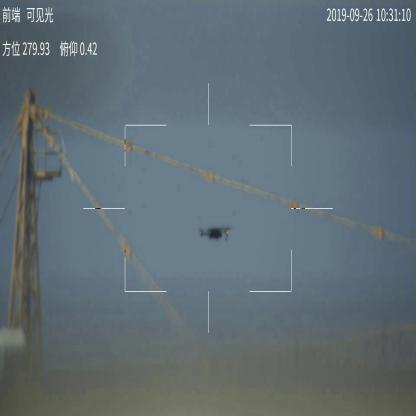uav: (196, 225, 236, 241)
